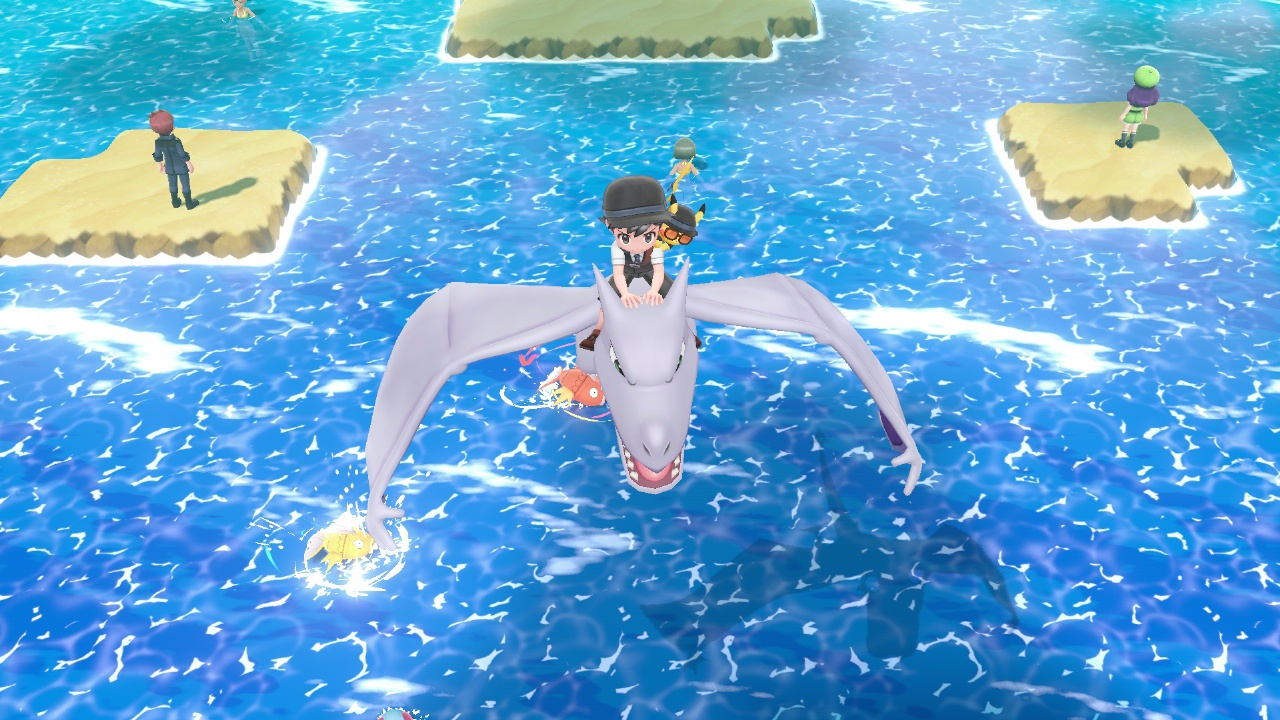Golden: (305, 524, 378, 572)
Red: (540, 367, 606, 412)
